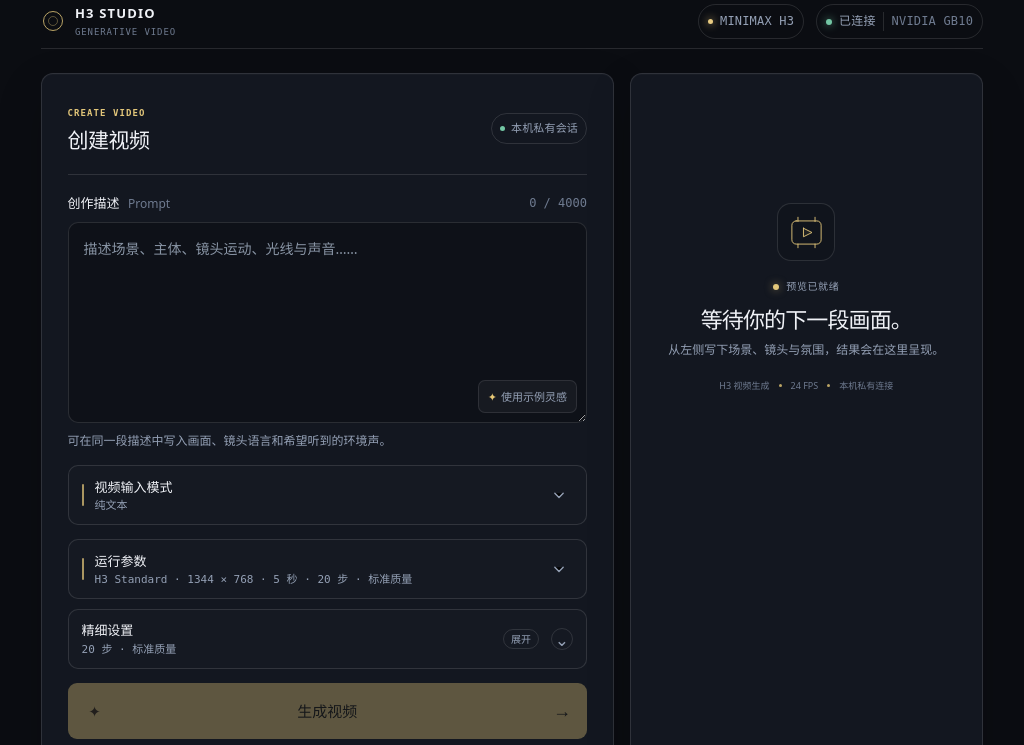
Test: H3 Studio primary screen › selects AdaGEMM INT8 for H3 Standard and clears cuBLAS INT8
This screenshot has width=1024, height=745.
Click the button "精细设置 20 步 · 标准质量 展开 ⌄".
click(107, 630)  # box x1=68 y1=610 x2=586 y2=668
(page scrolled)
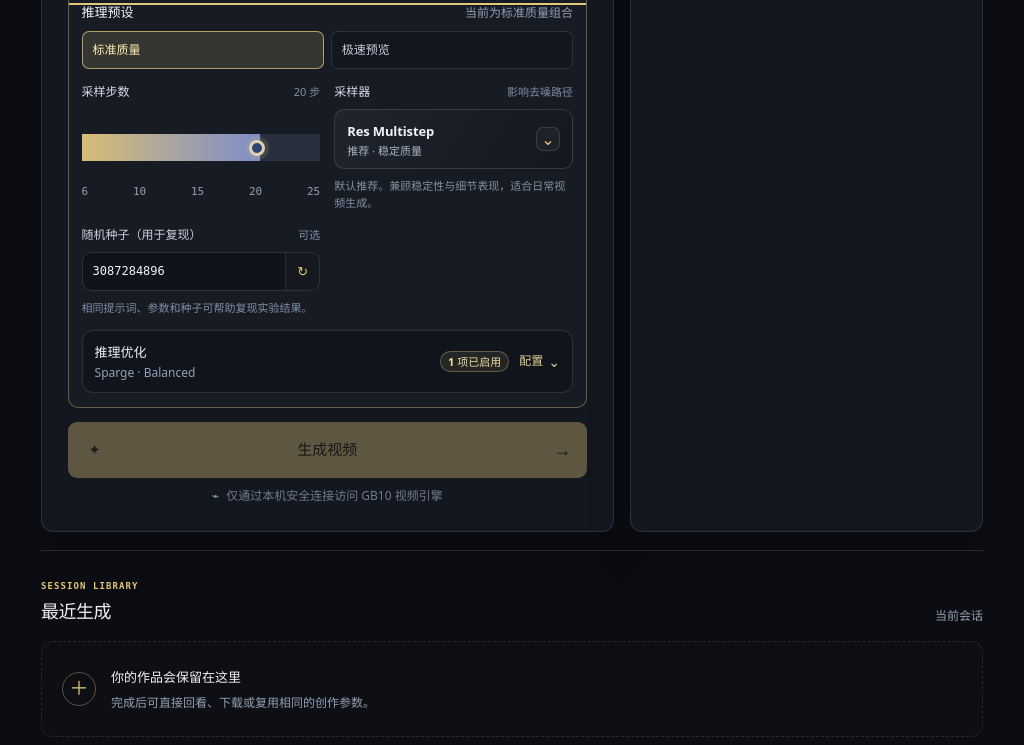
Click the button "推理优化 Sparge · Balanced 1 项已启用 配置 ⌄".
click(121, 352)  # box x1=82 y1=331 x2=572 y2=392
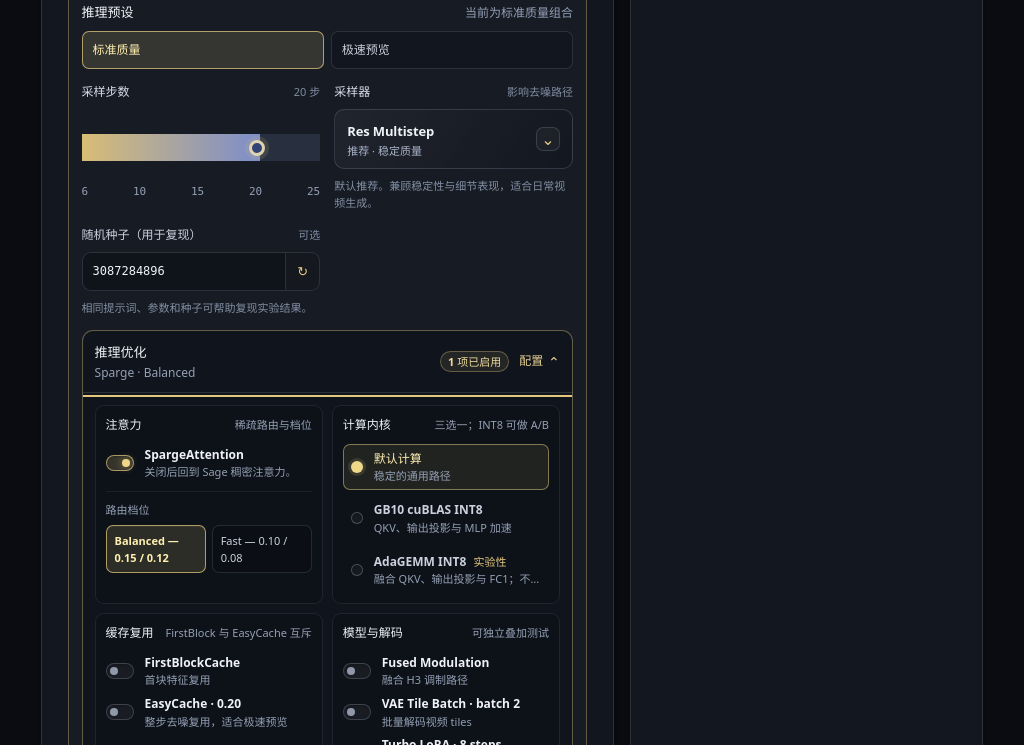
Expected: the radio button with aria-label "AdaGEMM INT8（实验性）" is enabled, x1=343 y1=547 x2=549 y2=593
Click the radio button labelled "GB10 cuBLAS INT8".
click(431, 518)  # box x1=351 y1=501 x2=512 y2=535
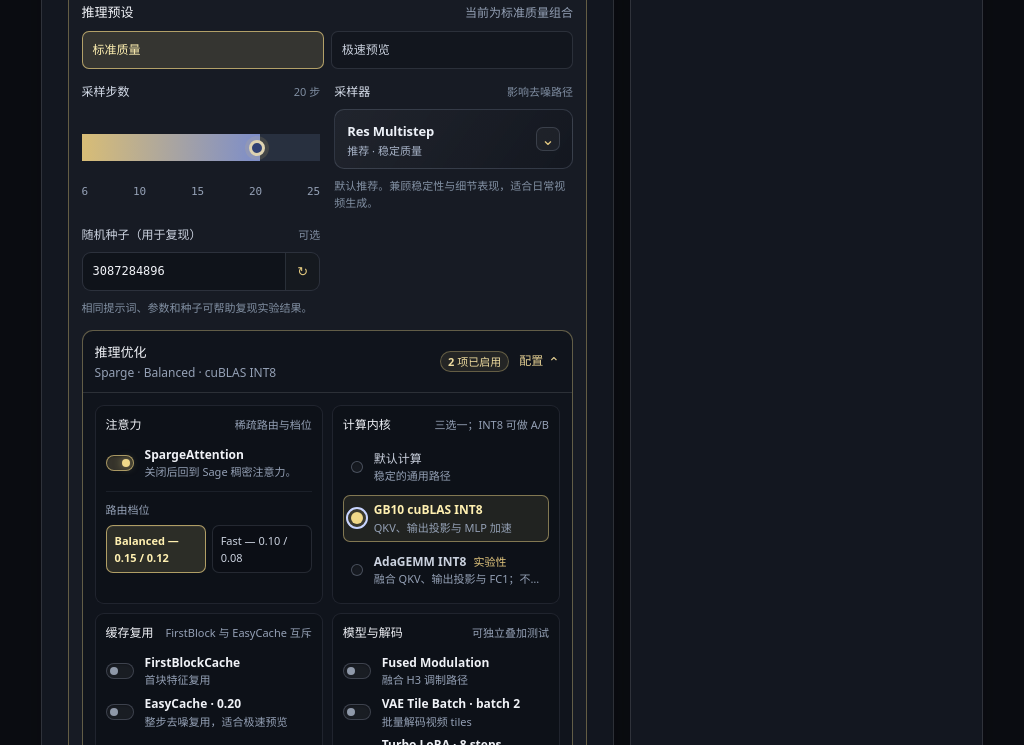
Click the radio button with aria-label "AdaGEMM INT8（实验性）".
click(446, 570)  # box x1=343 y1=547 x2=549 y2=593
(page scrolled)
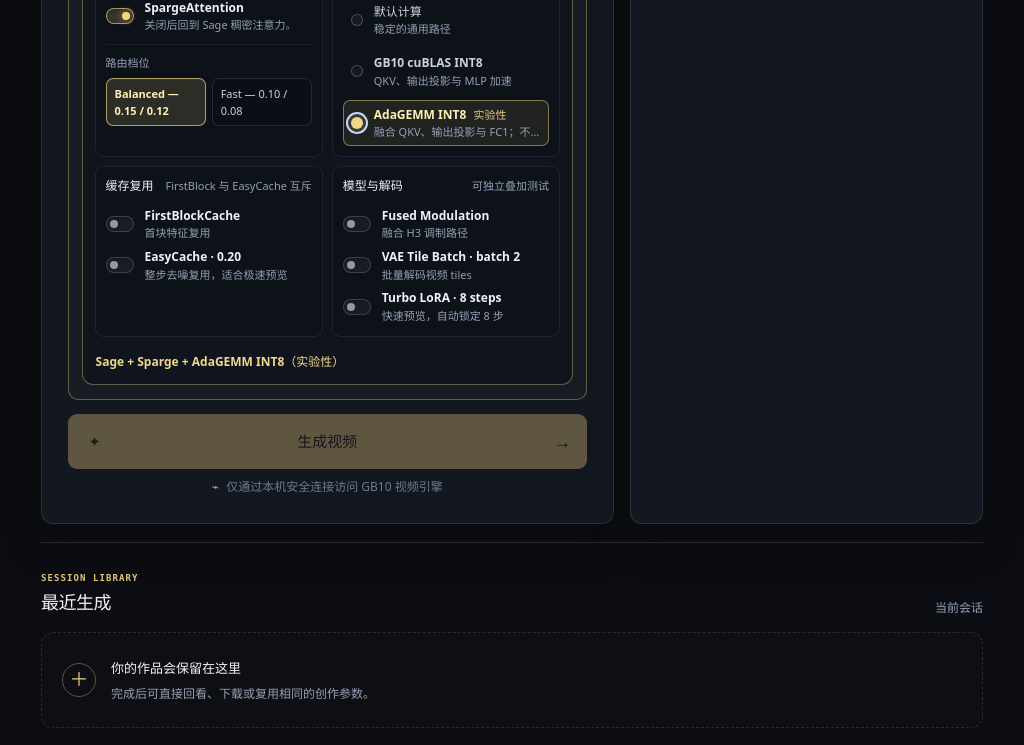
Expected: the radio button with aria-label "AdaGEMM INT8（实验性）" is checked, x1=343 y1=100 x2=549 y2=146
Expected: the radio button labelled "GB10 cuBLAS INT8" is not checked, x1=351 y1=54 x2=512 y2=88
Expected: the text "Sage + Sparge + AdaGEMM INT8（实验性）" is shown, x1=96 y1=353 x2=344 y2=370
